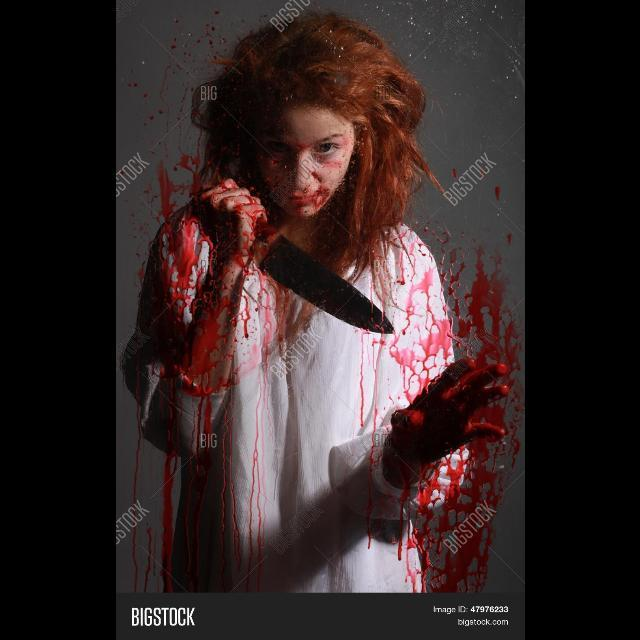blood: (416, 245, 523, 568), (150, 181, 264, 395), (230, 264, 307, 573), (379, 270, 453, 408), (269, 157, 344, 219), (407, 447, 469, 519), (156, 139, 200, 219), (352, 332, 385, 437), (157, 452, 179, 593)
